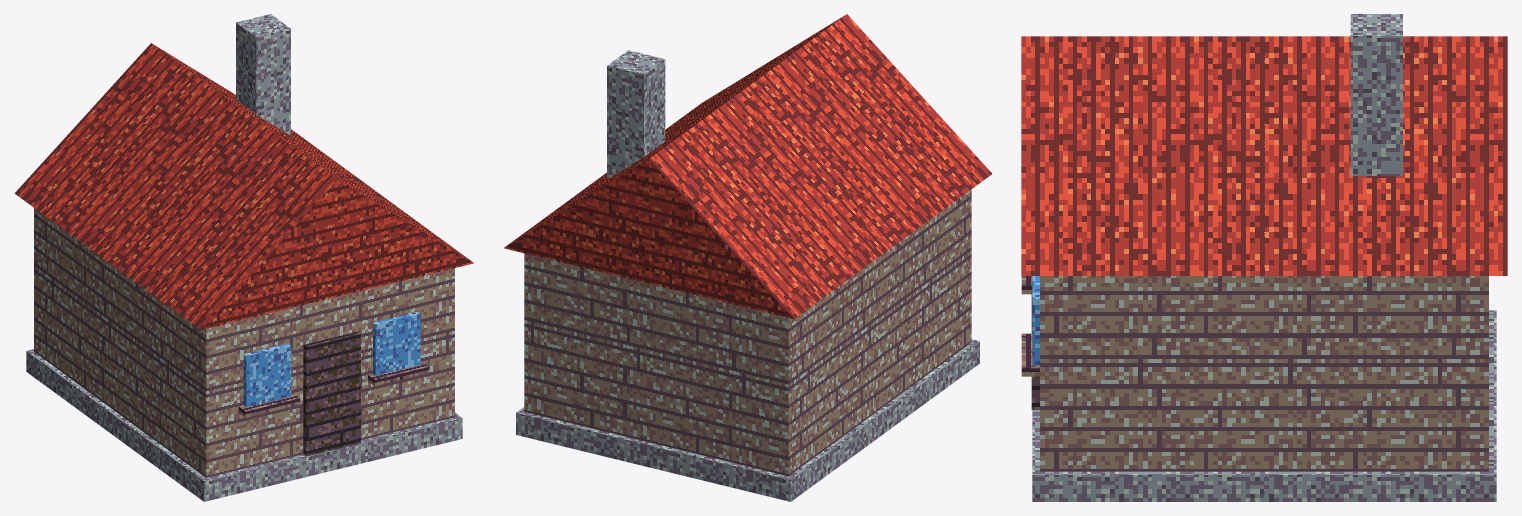
File: casa_3.glb
3 views of the same model, side by side, from view 1: azimuth 30°, elevation 25°; view 2: azimuth 150°, elevation 25°; view 3: azimuth 270°, elevation 25° (orthographic). The views are drawn at different scales.
Parts seen in each view (by area): view 1: casa_3; view 2: casa_3; view 3: casa_3.
Boxes of the visible parts, x1,y1,x2,y2 form: casa_3: [14, 14, 473, 501]; casa_3: [504, 14, 991, 501]; casa_3: [1021, 14, 1507, 501].
Size of the model in its own units: 5.5 by 6.4 by 6.5.
Materials: 6 (6 with a texture image).
